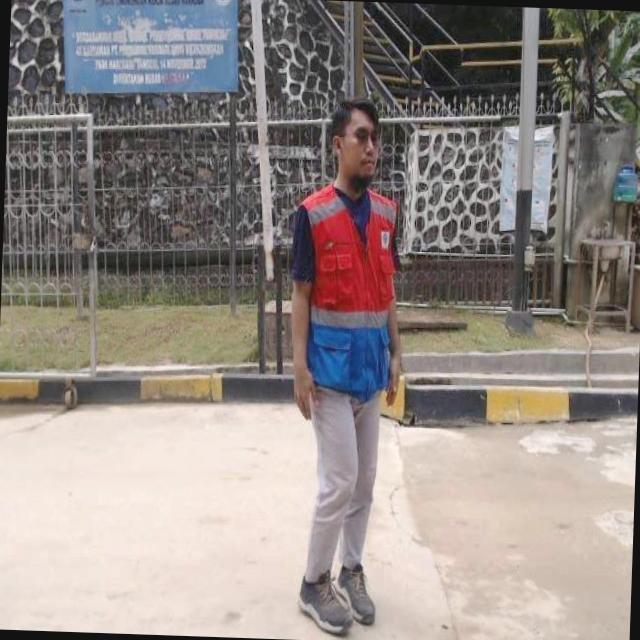vest: (292, 168, 403, 414)
